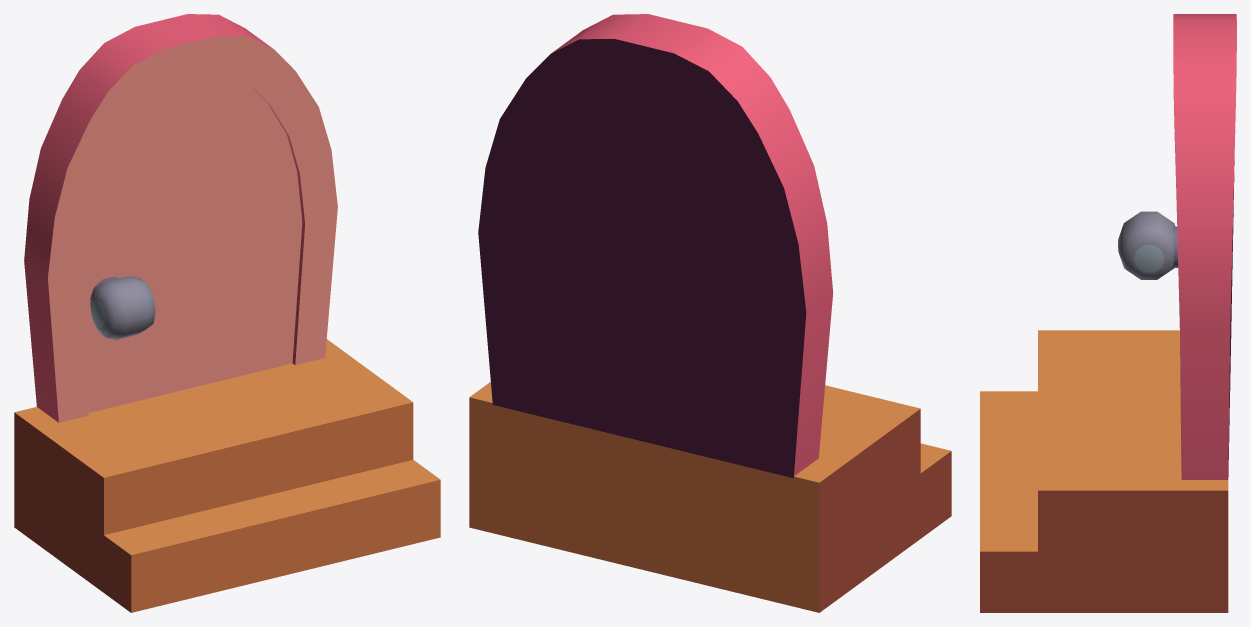
Rendered from Door03_Pink_Wood.glb.
3 views of the same model, side by side, from view 1: azimuth 30°, elevation 25°; view 2: azimuth 150°, elevation 25°; view 3: azimuth 270°, elevation 25° (orthographic). The views are drawn at different scales.
Visible parts, largest first — view 1: Door03_Pink_Wood; view 2: Door03_Pink_Wood; view 3: Door03_Pink_Wood.
Boxes of the visible parts, left/top/right/bottom form: Door03_Pink_Wood: left=14, top=14, right=440, bottom=612; Door03_Pink_Wood: left=469, top=14, right=951, bottom=612; Door03_Pink_Wood: left=980, top=14, right=1236, bottom=612.
Size of the model in its own units: 0.9795 by 1.41 by 0.6625.
Materials: 1 (1 with a texture image).
